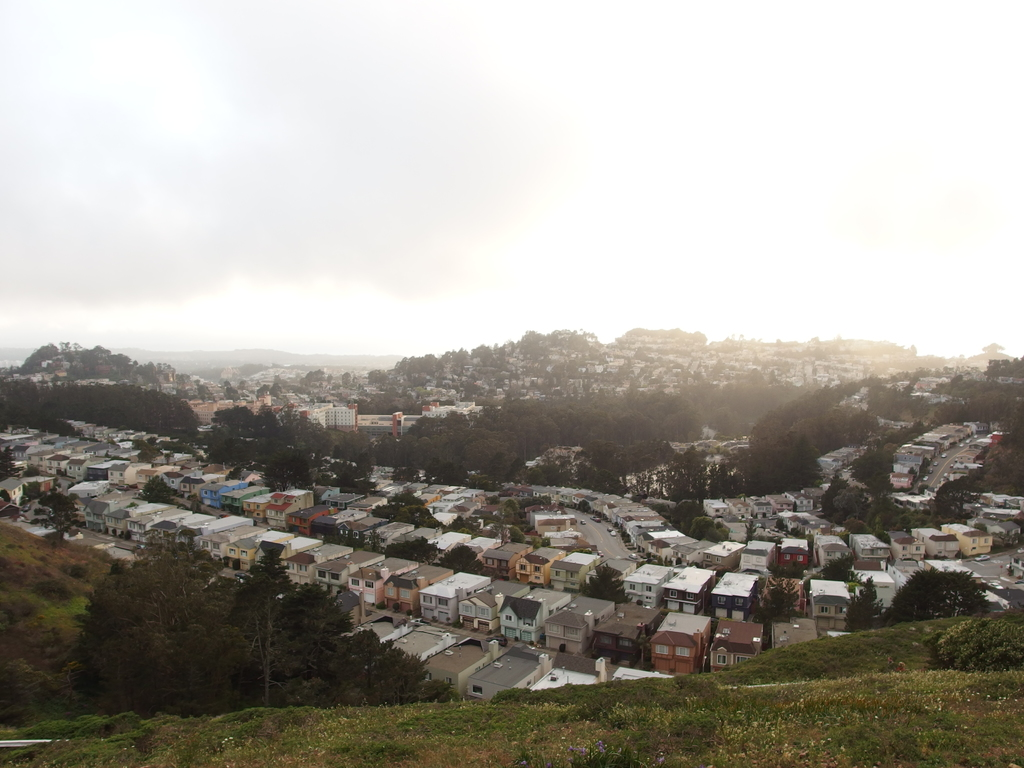Tree: (69, 529, 450, 712), (620, 376, 808, 442), (496, 390, 634, 457), (392, 411, 508, 489), (195, 400, 334, 465), (65, 376, 197, 442), (781, 376, 879, 458), (590, 411, 672, 492), (884, 565, 992, 626), (739, 421, 823, 499), (855, 420, 933, 490), (0, 367, 72, 433), (516, 456, 627, 498), (930, 375, 1023, 425), (522, 341, 606, 396), (655, 441, 712, 506), (819, 469, 871, 536), (756, 579, 800, 650), (979, 424, 1023, 495), (27, 486, 80, 542), (369, 490, 440, 530), (842, 574, 884, 636), (668, 499, 730, 540), (57, 341, 129, 375), (867, 382, 925, 423), (260, 446, 312, 490), (512, 327, 588, 357), (343, 425, 396, 467), (933, 474, 978, 522), (580, 560, 631, 602), (331, 449, 379, 493), (387, 351, 445, 387), (348, 388, 423, 414), (885, 363, 958, 388), (776, 520, 816, 559), (387, 535, 440, 563), (712, 461, 746, 504), (872, 486, 900, 536), (467, 342, 510, 373), (19, 342, 60, 374), (819, 550, 858, 581), (441, 543, 483, 571), (476, 364, 519, 391), (490, 509, 524, 543), (982, 357, 1022, 382), (138, 474, 175, 501), (630, 341, 691, 357), (0, 446, 27, 481), (774, 342, 830, 358), (445, 344, 470, 378), (450, 374, 482, 399), (609, 354, 637, 382), (174, 373, 207, 396), (149, 433, 193, 449), (131, 440, 170, 458), (442, 514, 481, 531), (661, 357, 692, 378), (134, 358, 159, 383), (256, 379, 285, 399), (743, 519, 761, 547), (366, 366, 392, 385), (17, 478, 39, 499), (223, 379, 244, 400), (471, 510, 498, 526), (704, 357, 725, 376), (529, 533, 551, 551), (286, 379, 312, 394), (302, 367, 332, 380), (476, 394, 506, 405), (223, 466, 241, 481), (44, 474, 58, 492), (504, 495, 519, 510), (328, 380, 344, 394), (2, 489, 15, 506), (28, 464, 43, 478), (577, 498, 589, 514), (339, 370, 351, 383), (72, 424, 83, 437), (55, 467, 68, 476)
